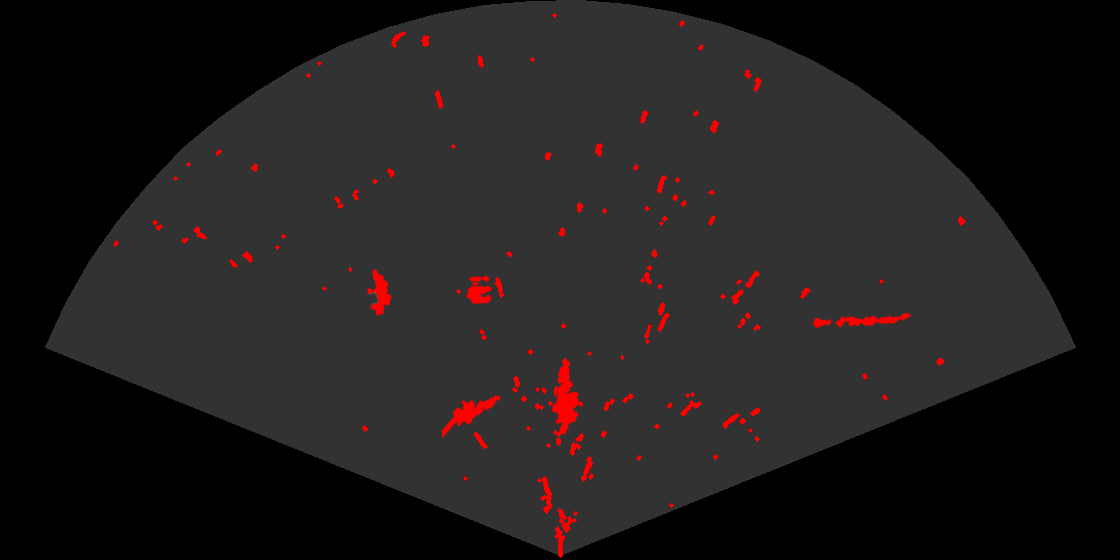AUV: (366, 267, 393, 318)
ball: (465, 274, 494, 306)
chain: (811, 311, 911, 330)
frogman: (442, 393, 502, 438), (550, 357, 585, 434)
